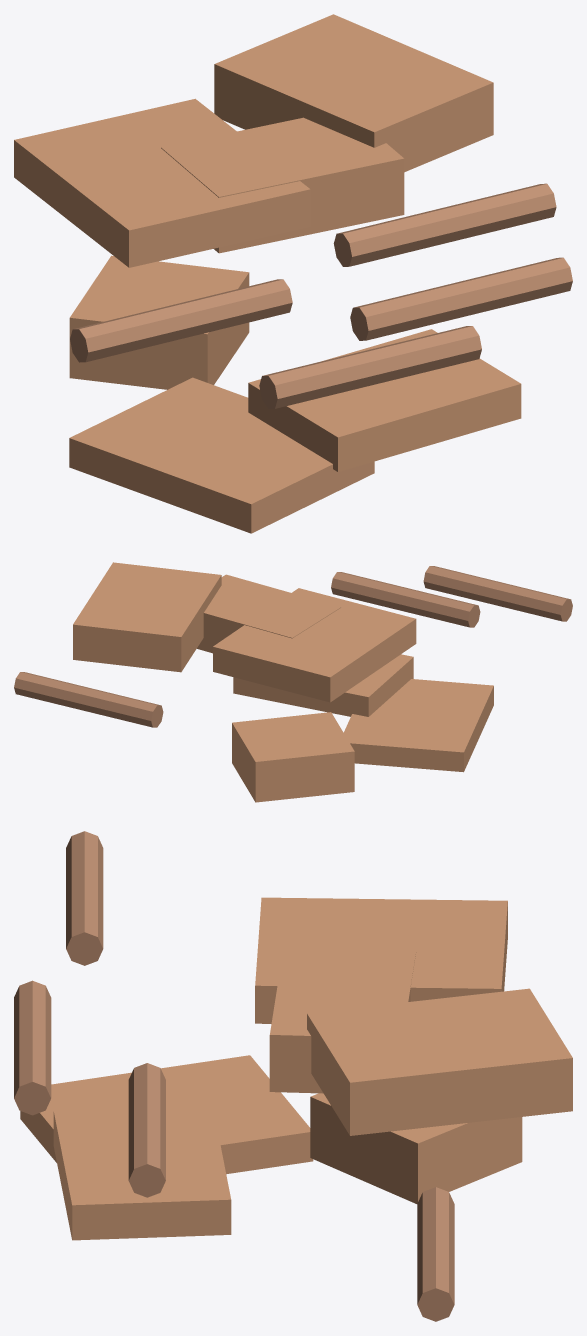
Rendered from scrap_pile_02.glb.
3 views of the same model, one above another, from view 1: azimuth 30°, elevation 25°; view 2: azimuth 150°, elevation 25°; view 3: azimuth 270°, elevation 25° (orthographic). The views are drawn at different scales.
Parts seen in each view (by area): view 1: scrap4, scrap2, scrap8, scrap5, scrap1, scrap7, pipe3, pipe6, pipe9, pipe0; view 2: scrap4, scrap2, scrap8, scrap7, scrap1, scrap5, pipe9, pipe0, pipe6; view 3: scrap2, scrap4, scrap5, scrap8, scrap7, scrap1, pipe9, pipe3, pipe0, pipe6.
Boxes of the visible parts, <box> form: scrap4: <box>14,98,310,267</box>; scrap2: <box>214,14,493,172</box>; scrap8: <box>69,377,374,533</box>; scrap5: <box>248,329,521,471</box>; scrap1: <box>161,117,404,253</box>; scrap7: <box>69,255,249,389</box>; pipe3: <box>350,257,572,340</box>; pipe6: <box>70,279,292,362</box>; pipe9: <box>333,183,556,266</box>; pipe0: <box>259,326,481,408</box>; scrap4: <box>213,588,416,702</box>; scrap2: <box>73,562,221,672</box>; scrap8: <box>343,679,493,772</box>; scrap7: <box>232,712,354,802</box>; scrap1: <box>197,574,341,653</box>; scrap5: <box>233,654,413,716</box>; pipe9: <box>14,672,163,727</box>; pipe0: <box>331,572,480,627</box>; pipe6: <box>423,566,572,621</box>; scrap2: <box>307,988,572,1135</box>; scrap4: <box>255,897,507,1023</box>; scrap5: <box>53,1104,231,1240</box>; scrap8: <box>20,1055,313,1174</box>; scrap7: <box>310,1093,522,1203</box>; scrap1: <box>269,946,416,1093</box>; pipe9: <box>417,1187,454,1321</box>; pipe3: <box>128,1063,165,1197</box>; pipe0: <box>14,980,51,1115</box>; pipe6: <box>66,831,103,965</box>.
Size of the model in its own units: 1.41 by 0.4906 by 1.05.
